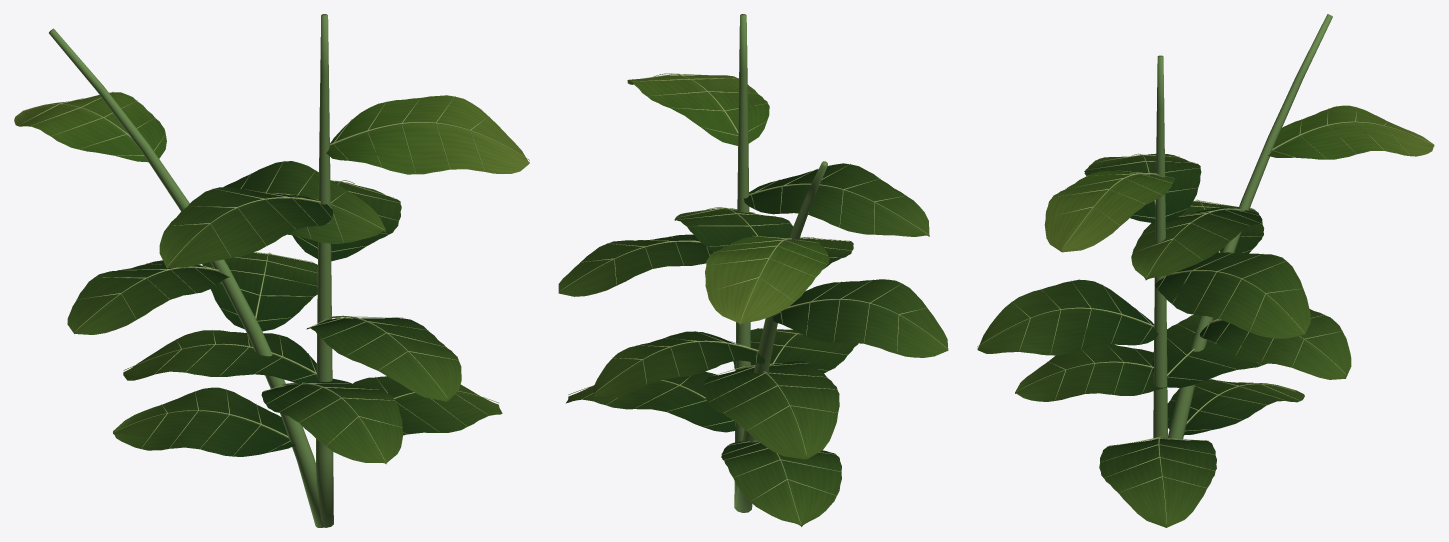
Rendered from bellflower-05.glb.
The picture shows the model from 3 angles, left to right: view 1: azimuth 30°, elevation 25°; view 2: azimuth 150°, elevation 25°; view 3: azimuth 270°, elevation 25°; orthographic projection. The views are drawn at different scales.
Parts seen in each view (by area): view 1: bellflower_stage_05_leaf_veins.008, bellflower_stage_05_young_leaf.008, bellflower_stage_05_stem_fibres.008, bellflower_stage_05_raised_midveins.008; view 2: bellflower_stage_05_leaf_veins.008, bellflower_stage_05_young_leaf.008, bellflower_stage_05_raised_midveins.008, bellflower_stage_05_stem_fibres.008; view 3: bellflower_stage_05_leaf_veins.008, bellflower_stage_05_young_leaf.008, bellflower_stage_05_stem_fibres.008, bellflower_stage_05_raised_midveins.008.
Boxes of the visible parts, x1,y1,x2,y2 form: bellflower_stage_05_leaf_veins.008: [67, 161, 502, 464]; bellflower_stage_05_young_leaf.008: [14, 92, 529, 174]; bellflower_stage_05_stem_fibres.008: [49, 14, 333, 527]; bellflower_stage_05_raised_midveins.008: [18, 91, 529, 462]; bellflower_stage_05_leaf_veins.008: [558, 163, 948, 526]; bellflower_stage_05_young_leaf.008: [627, 75, 829, 325]; bellflower_stage_05_raised_midveins.008: [559, 73, 948, 526]; bellflower_stage_05_stem_fibres.008: [734, 14, 827, 512]; bellflower_stage_05_leaf_veins.008: [977, 153, 1351, 527]; bellflower_stage_05_young_leaf.008: [1044, 105, 1434, 252]; bellflower_stage_05_stem_fibres.008: [1153, 14, 1332, 440]; bellflower_stage_05_raised_midveins.008: [977, 107, 1433, 523].
Size of the model in its own units: 0.2026 by 0.2416 by 0.2184.
4 materials, 2 textured.
